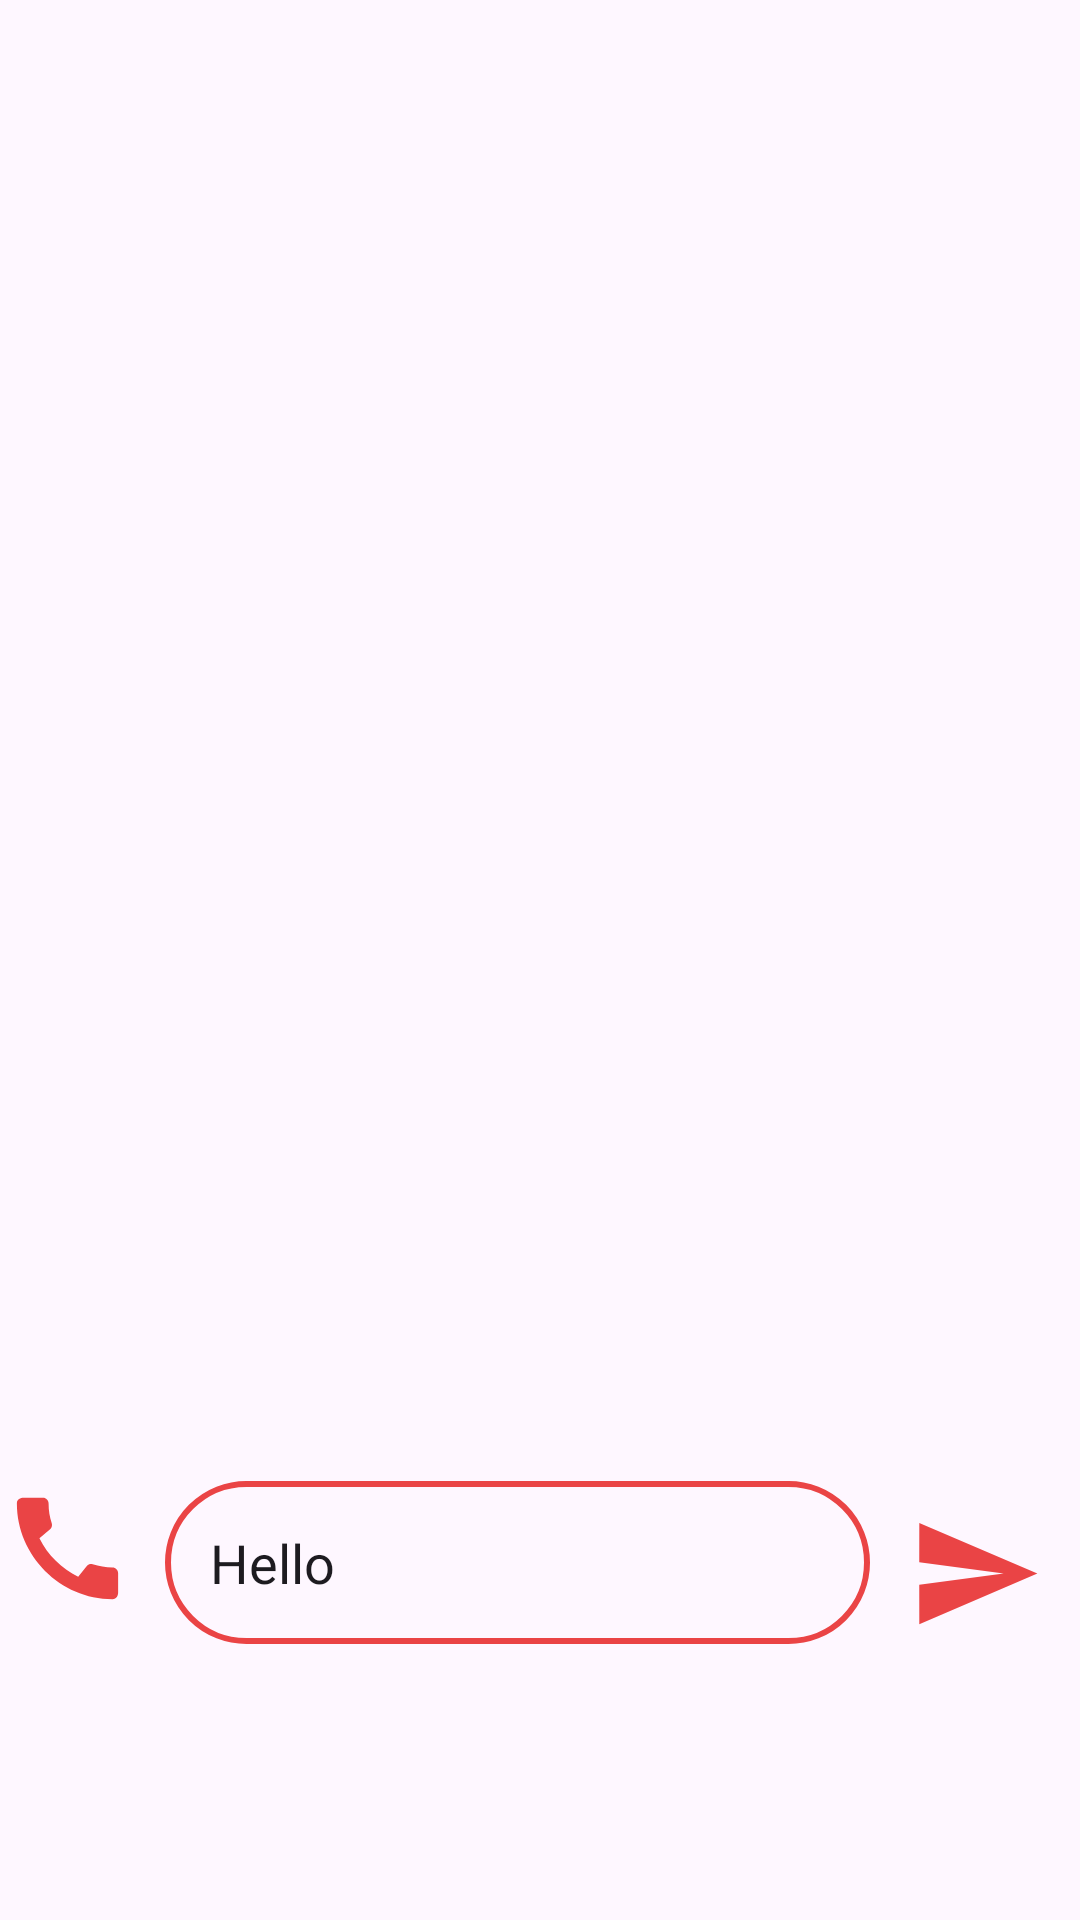

Where to tap for icons on this 1080*1920 app screen, as (x=x, y=y):
call: (x=67, y=1548)
send: (x=978, y=1573)
